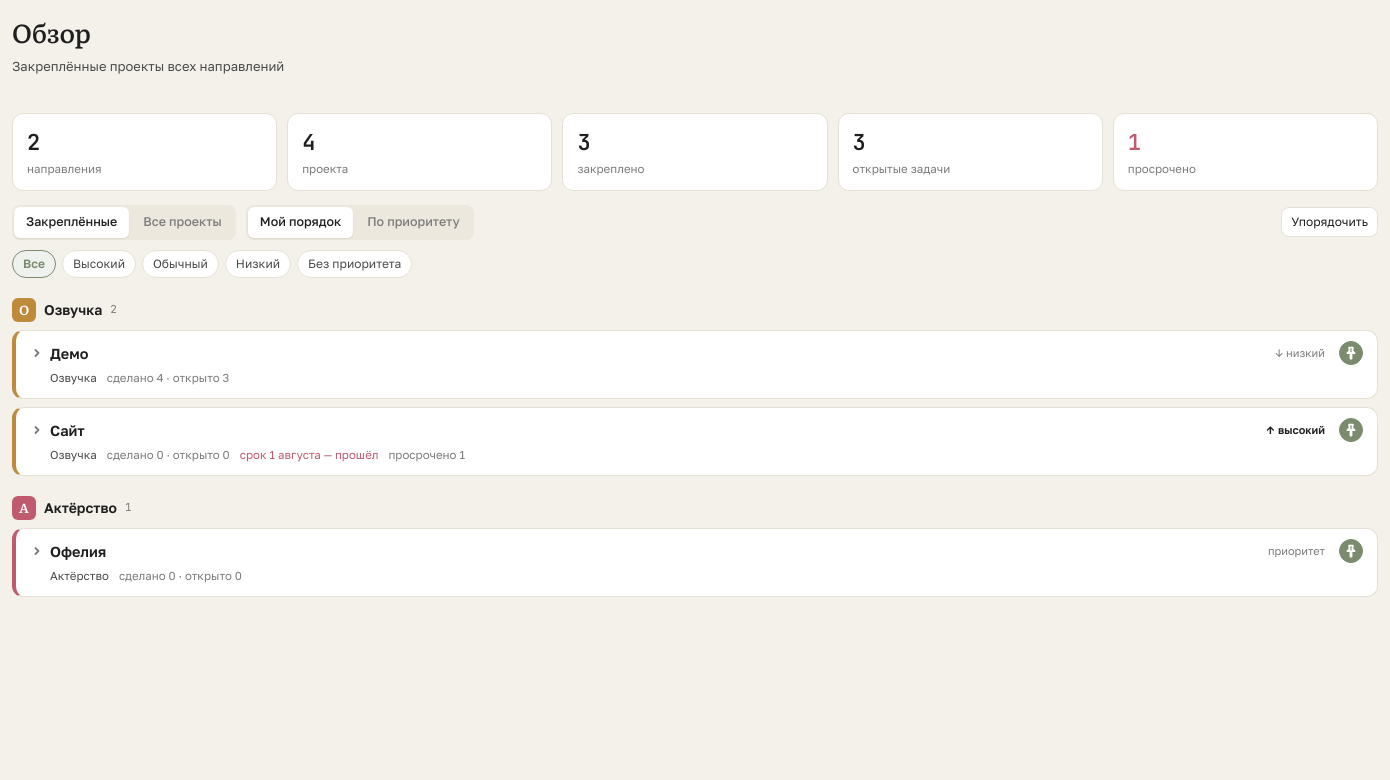
Test: обзор › фильтр по приоритету
Expected: the text "Демо" is shown, top-left (50, 342), bottom-right (88, 364)
Click the button "Высокий".
click(99, 264)  # box top-left (62, 250), bottom-right (136, 278)
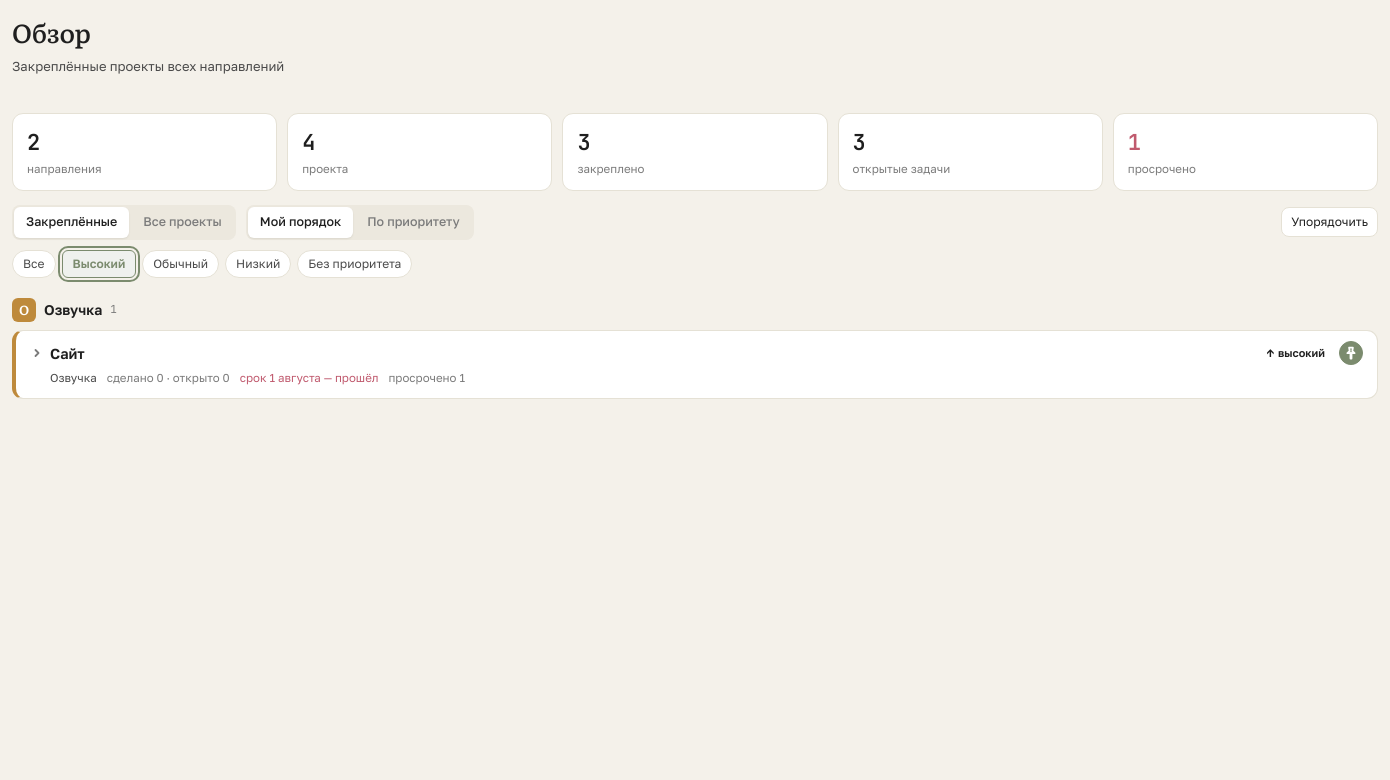
Expected: the text "Сайт" is shown, top-left (50, 342), bottom-right (85, 364)
Expected: the button "Демо" is gone
